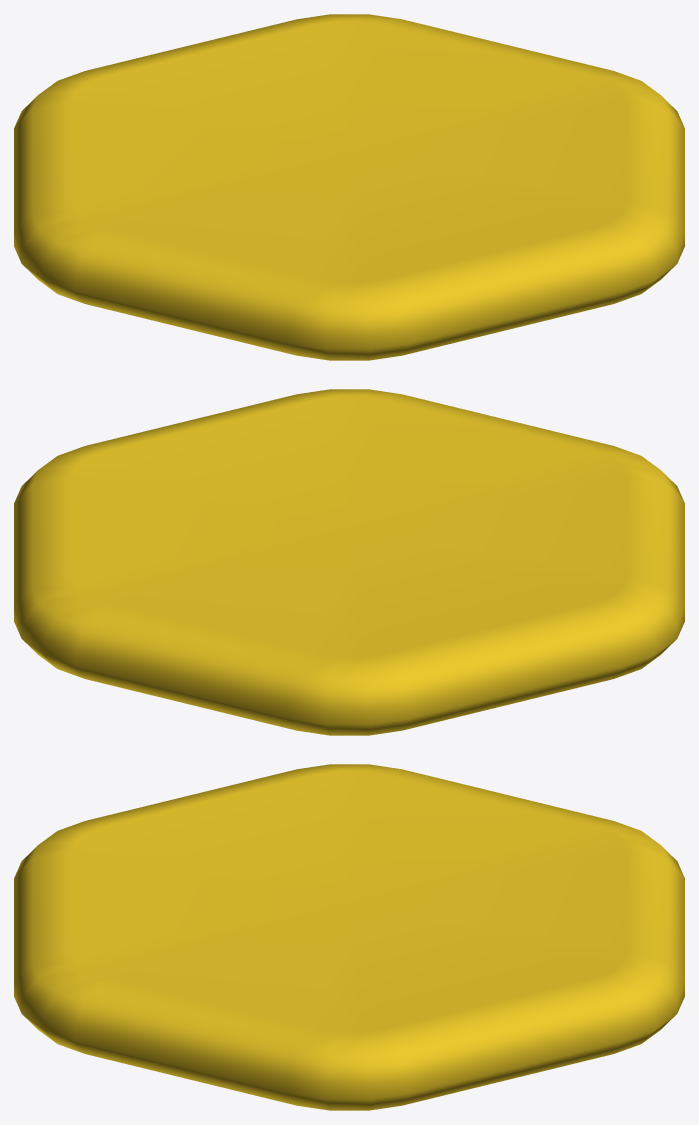
Rendered from yellow tiles.fbx.
3 renders of one model, top to bottom at view 1: azimuth 30°, elevation 25°; view 2: azimuth 150°, elevation 25°; view 3: azimuth 270°, elevation 25°, orthographic.
Parts seen in each view (by area): view 1: hexa_Tile_Lines.yellow; view 2: hexa_Tile_Lines.yellow; view 3: hexa_Tile_Lines.yellow.
Part boxes in pixels (left/top/right/bottom): hexa_Tile_Lines.yellow: left=14, top=14, right=684, bottom=360; hexa_Tile_Lines.yellow: left=14, top=389, right=684, bottom=735; hexa_Tile_Lines.yellow: left=14, top=764, right=684, bottom=1110.
Bounding box in the file's own units: 2.18 × 2 × 0.2358.
